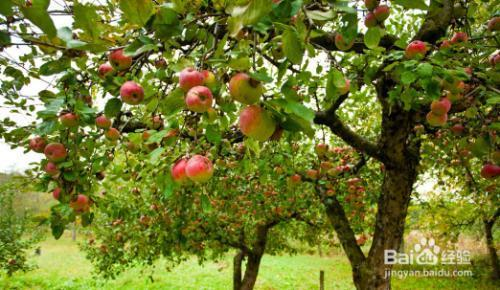apple: (238, 105, 277, 142), (228, 73, 262, 105), (185, 155, 213, 182), (184, 86, 213, 112), (177, 68, 208, 91), (117, 78, 143, 103), (108, 49, 131, 71), (43, 143, 67, 164), (61, 111, 80, 126), (480, 165, 500, 179)
